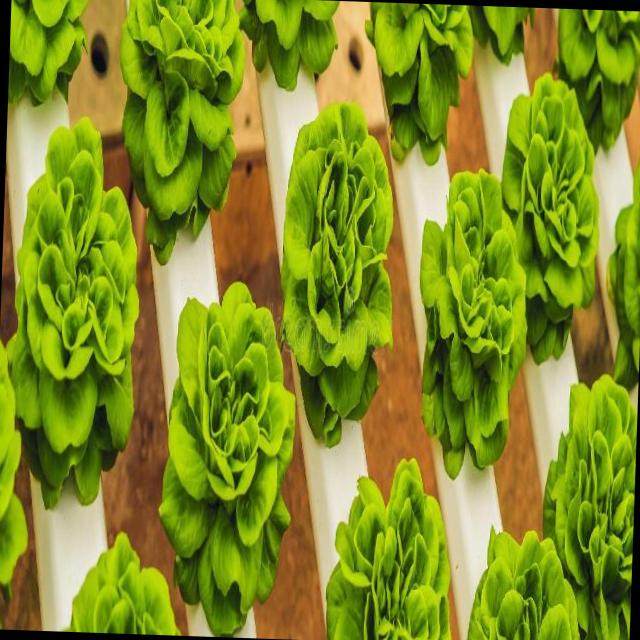Lettuce-Ready-to-Harvest: (421, 75, 596, 474), (0, 120, 138, 586), (121, 0, 335, 256), (159, 284, 294, 637), (283, 103, 392, 444), (328, 462, 449, 640), (545, 379, 637, 581), (371, 4, 470, 143), (467, 531, 579, 640), (71, 538, 176, 635), (10, 0, 86, 101), (560, 11, 639, 90)
